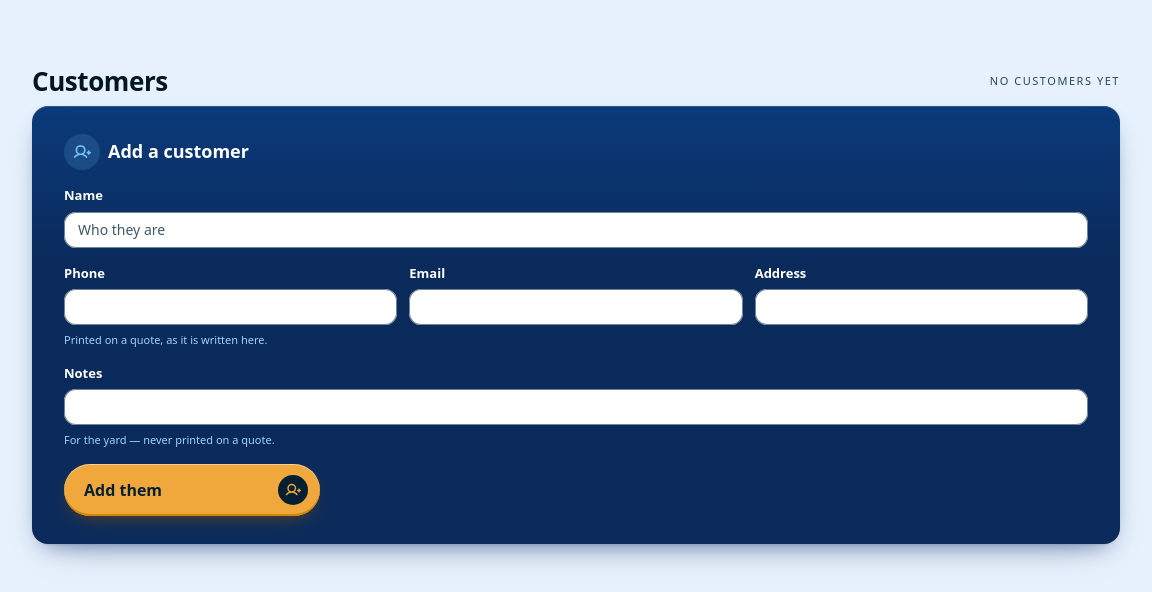
a desk where nobody is a customer yet says where customers come from › says the reason where it was refused, puts the caret on the name, and takes it back
Click the button "Add them".
click(192, 490)  # box 64,464 -> 320,516
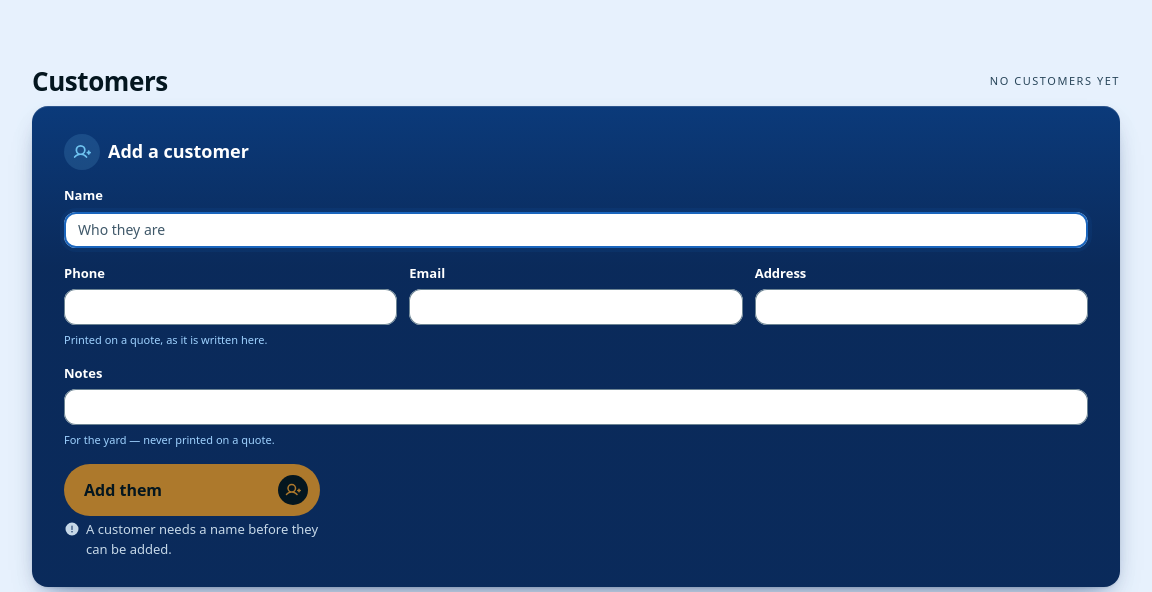
Now the text "A customer needs a name before they can be added." is shown, box 64,520 -> 320,559
Type "S" into the field labelled "Name".
click(576, 230); type("S")  # box 64,212 -> 1088,248
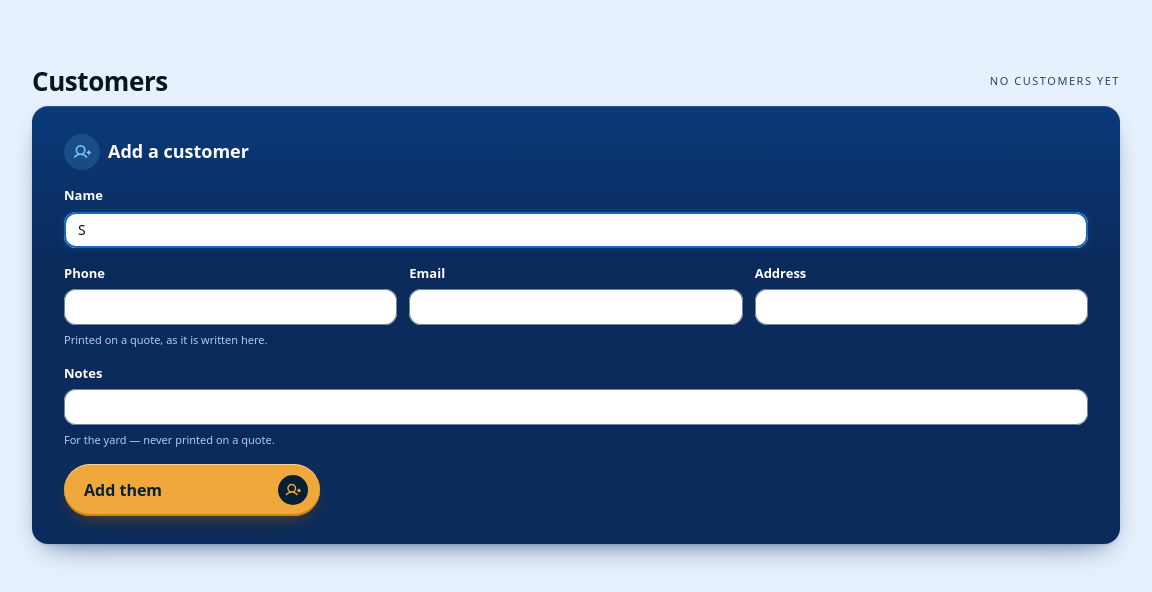
Now the text "A customer needs a name before they can be added." is gone
